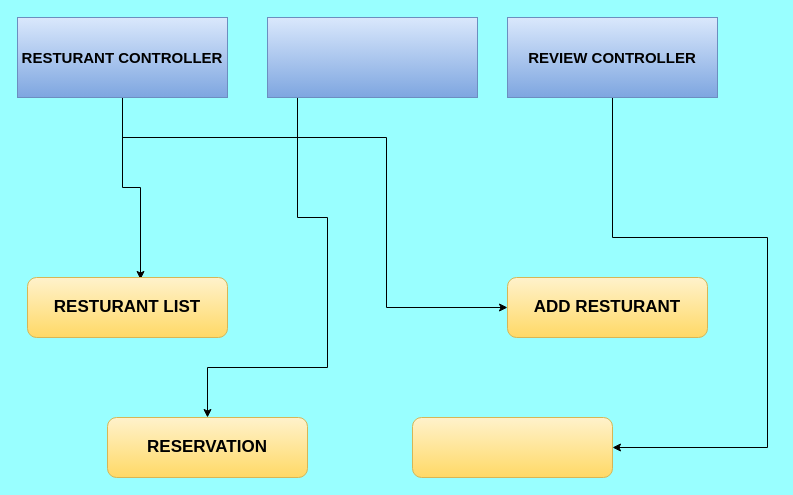
Image size: 793x495. Some labels were removed from this diagram. Here are the shapes that lost their labels. From the top down, the box of each, then its label:
(266, 16, 478, 98): BOOKINGS CONTROLLER
(412, 416, 612, 478): ADD REVIEW
